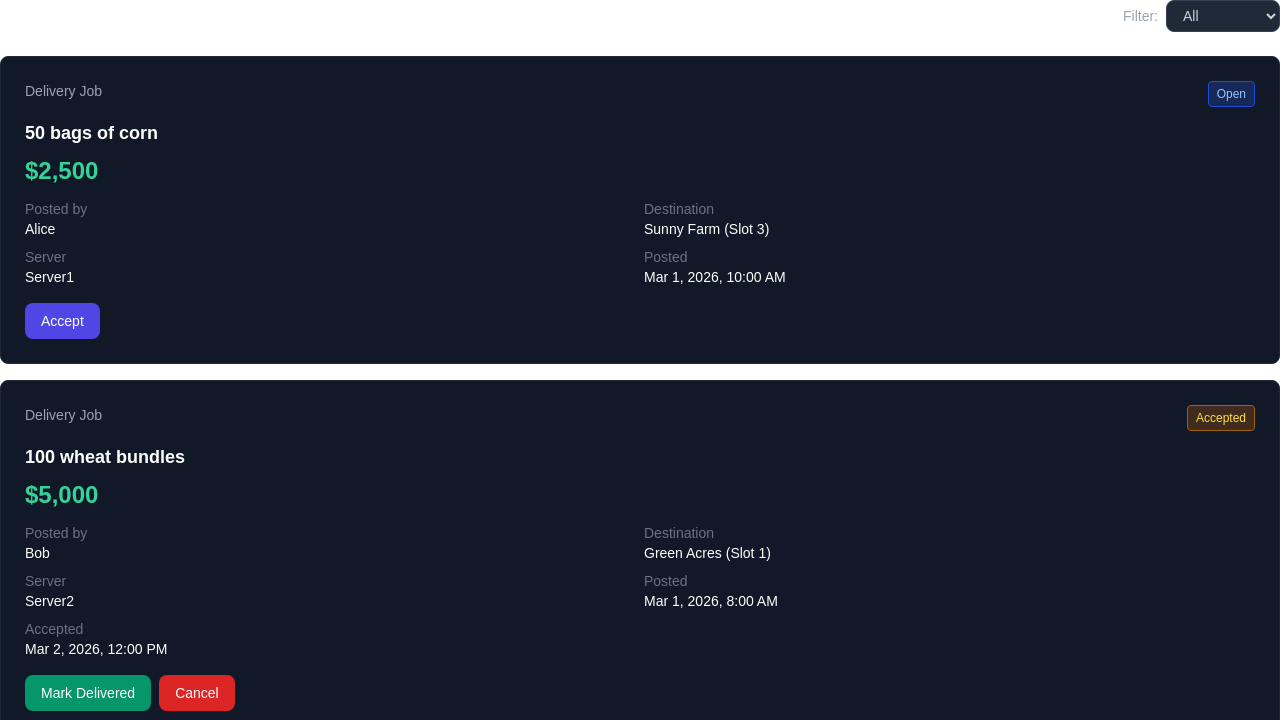
Test: TruckingOwnerPanel › filters deliveries by status
This screenshot has width=1280, height=720.
Expected: the text "50 bags of corn" is shown, [25,123,158,143]
Select "Open" in the dropdown labelled "Filter:" at (1223, 16), box [1166,0,1279,32]
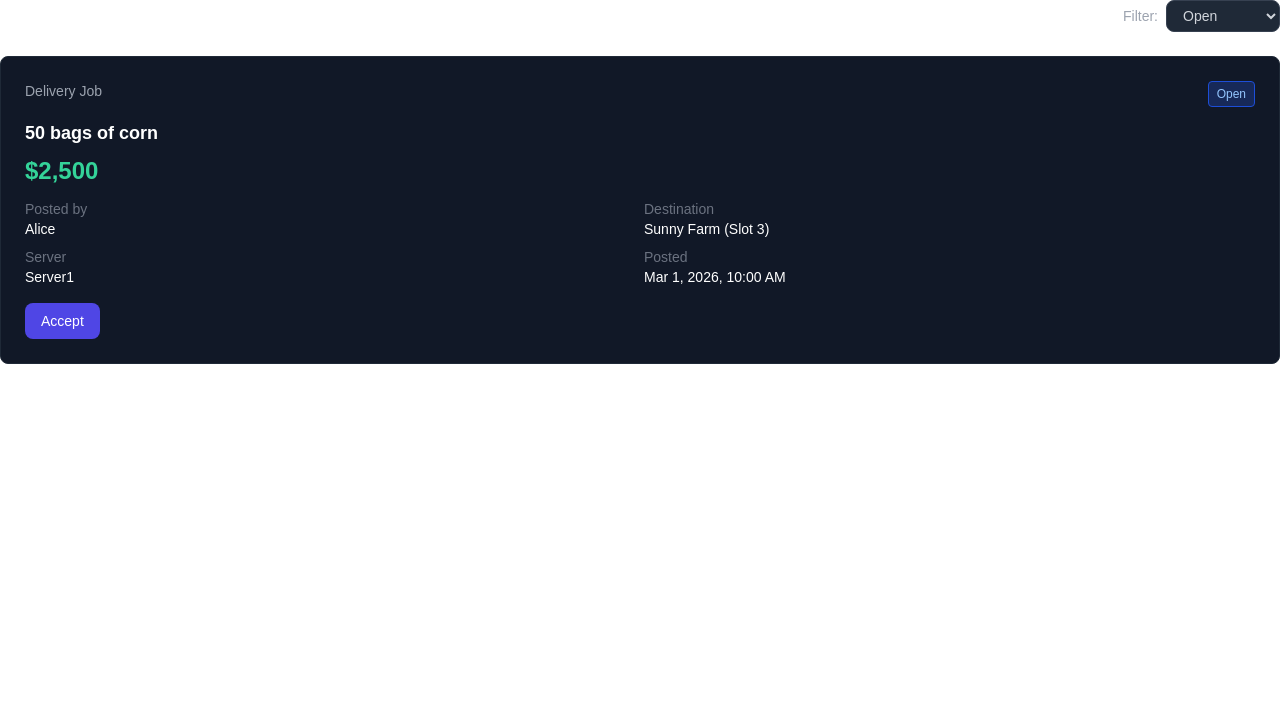
Expected: the text "50 bags of corn" is shown, [25,123,158,143]
Result: the text "100 wheat bundles" is gone
